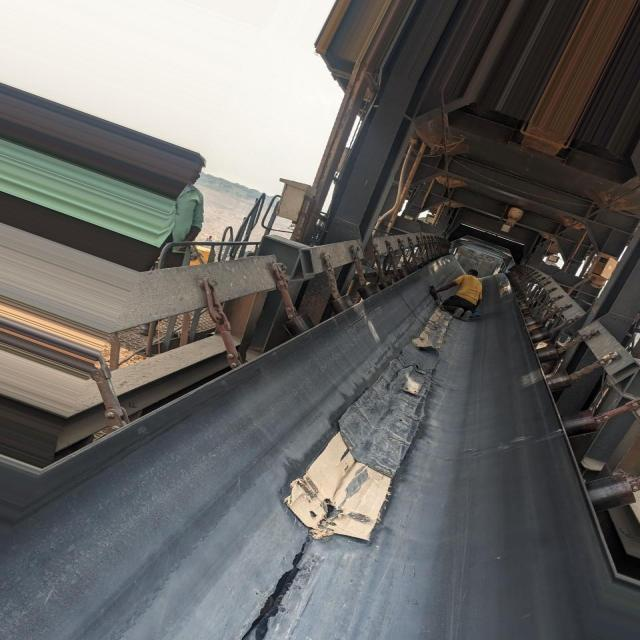Human: (428, 269, 483, 320)
Roller: (514, 303, 638, 511), (284, 251, 440, 337)
Tear: (247, 554, 302, 637)
patch work: (278, 343, 440, 540)
